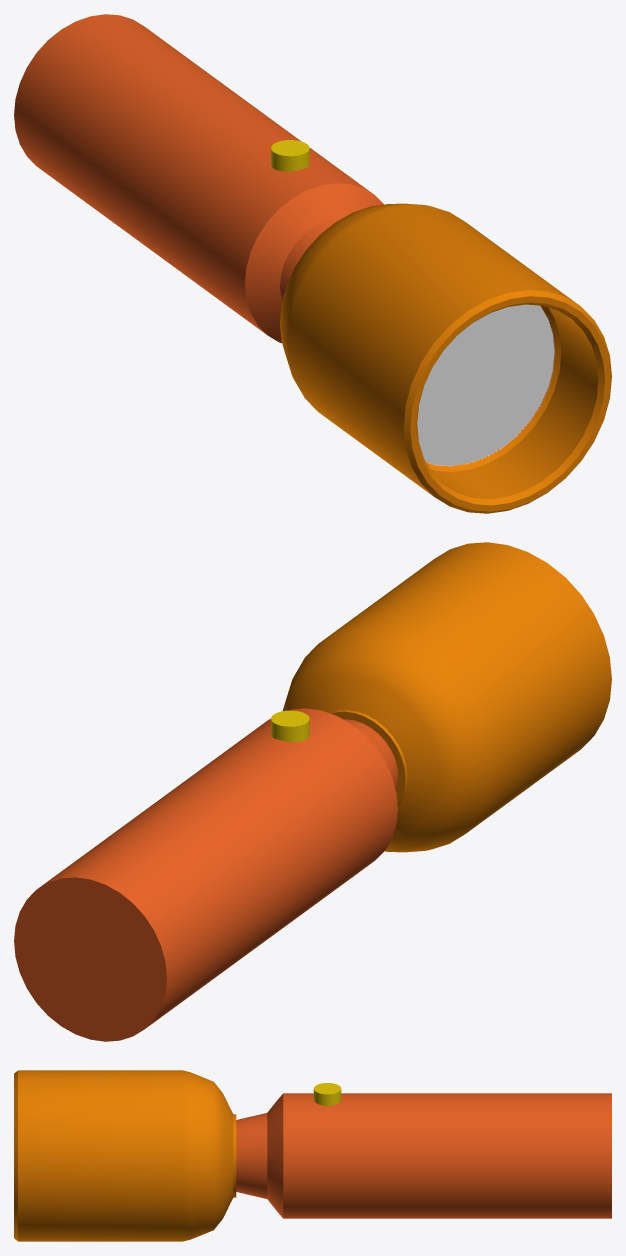
Rendered from flashlight.fbx.
3 renders of one model, top to bottom at view 1: azimuth 30°, elevation 25°; view 2: azimuth 150°, elevation 25°; view 3: azimuth 270°, elevation 25°, orthographic. The views are drawn at different scales.
Visible parts, largest first — view 1: Cylinder.014, Cylinder.013, Cylinder.015; view 2: Cylinder.013, Cylinder.014, Cylinder.015; view 3: Cylinder.013, Cylinder.014, Cylinder.015.
Part boxes in pixels (x1,y1,x2,y2): Cylinder.014: (280, 203, 611, 513); Cylinder.013: (14, 14, 383, 343); Cylinder.015: (271, 140, 309, 171); Cylinder.013: (14, 708, 398, 1041); Cylinder.014: (282, 542, 611, 852); Cylinder.015: (271, 710, 309, 742); Cylinder.013: (236, 1093, 611, 1218); Cylinder.014: (14, 1070, 236, 1241); Cylinder.015: (313, 1083, 341, 1106).
Size of the model in its own units: 54.74 by 54.74 by 191.
